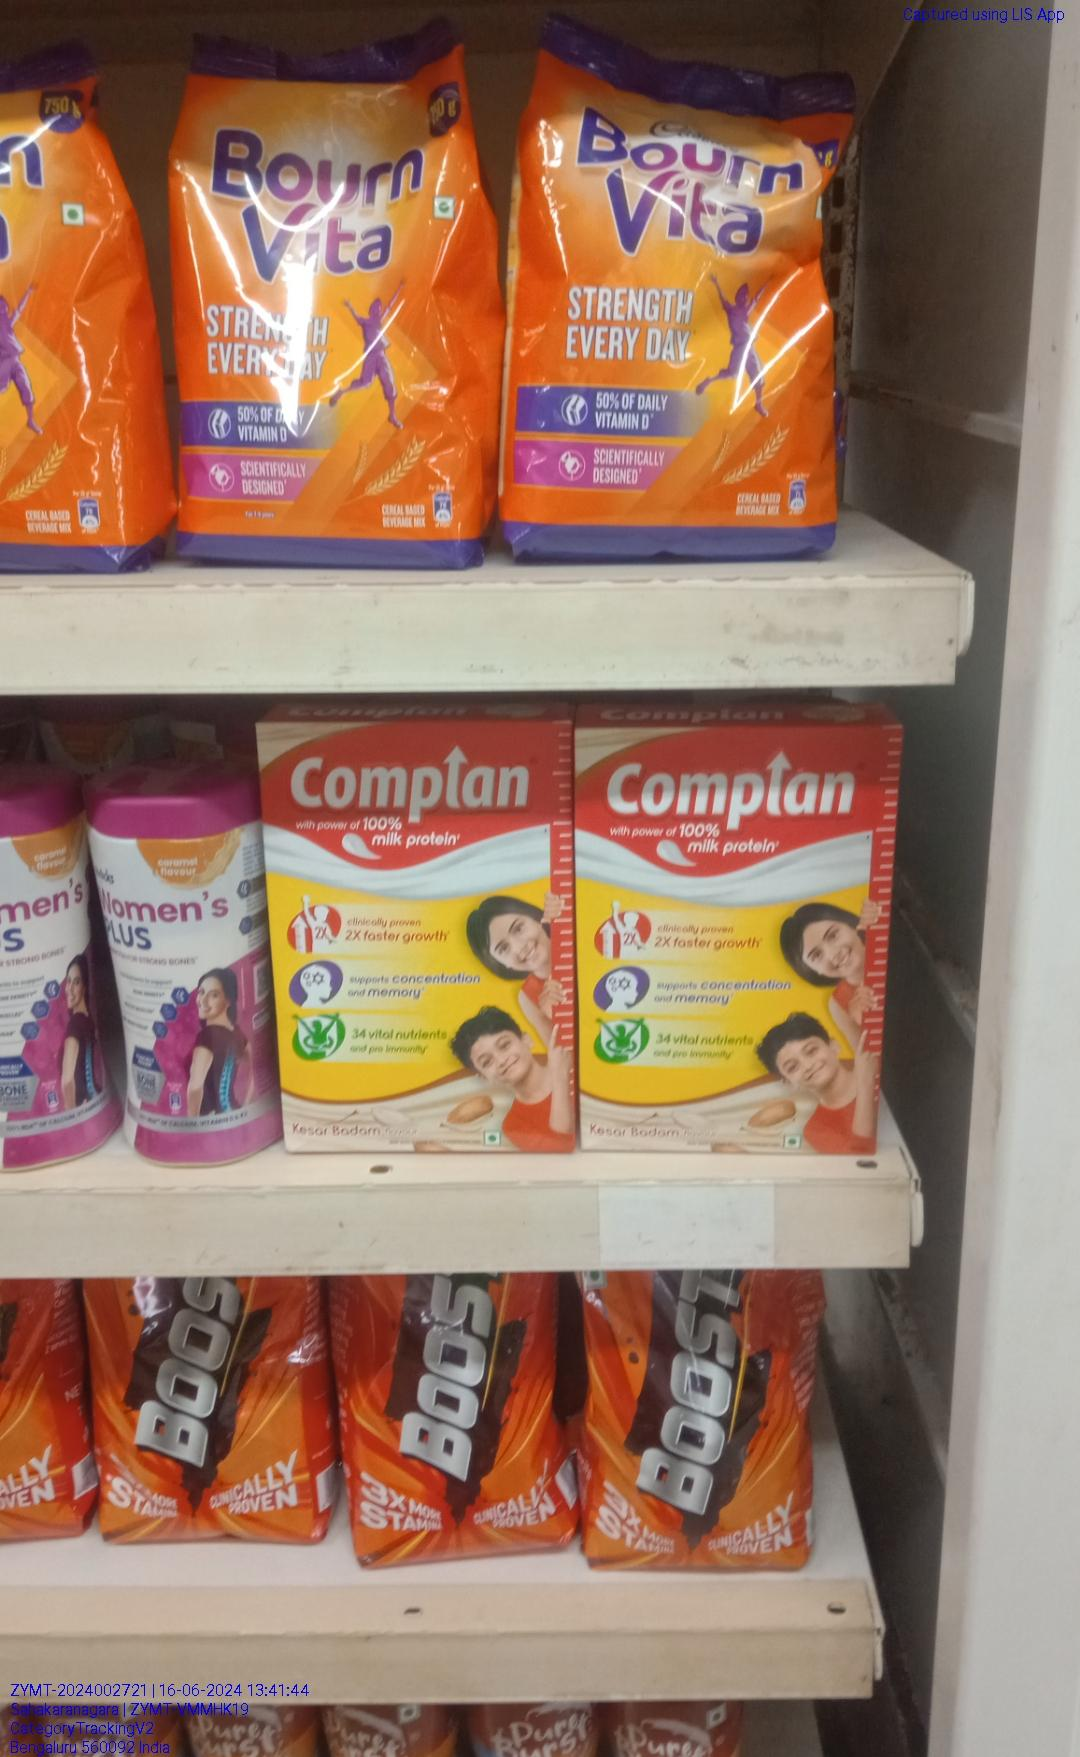BOURN_VITA_750_G_POUCH: (499, 34, 833, 575), (174, 48, 483, 577)
